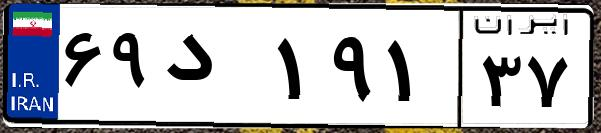1: (270, 28, 330, 110), (385, 28, 445, 110)
3: (475, 38, 525, 113)
6: (57, 26, 110, 100)
7: (525, 38, 570, 115)
9: (330, 28, 385, 110), (110, 28, 158, 98)
د: (158, 20, 270, 120)
